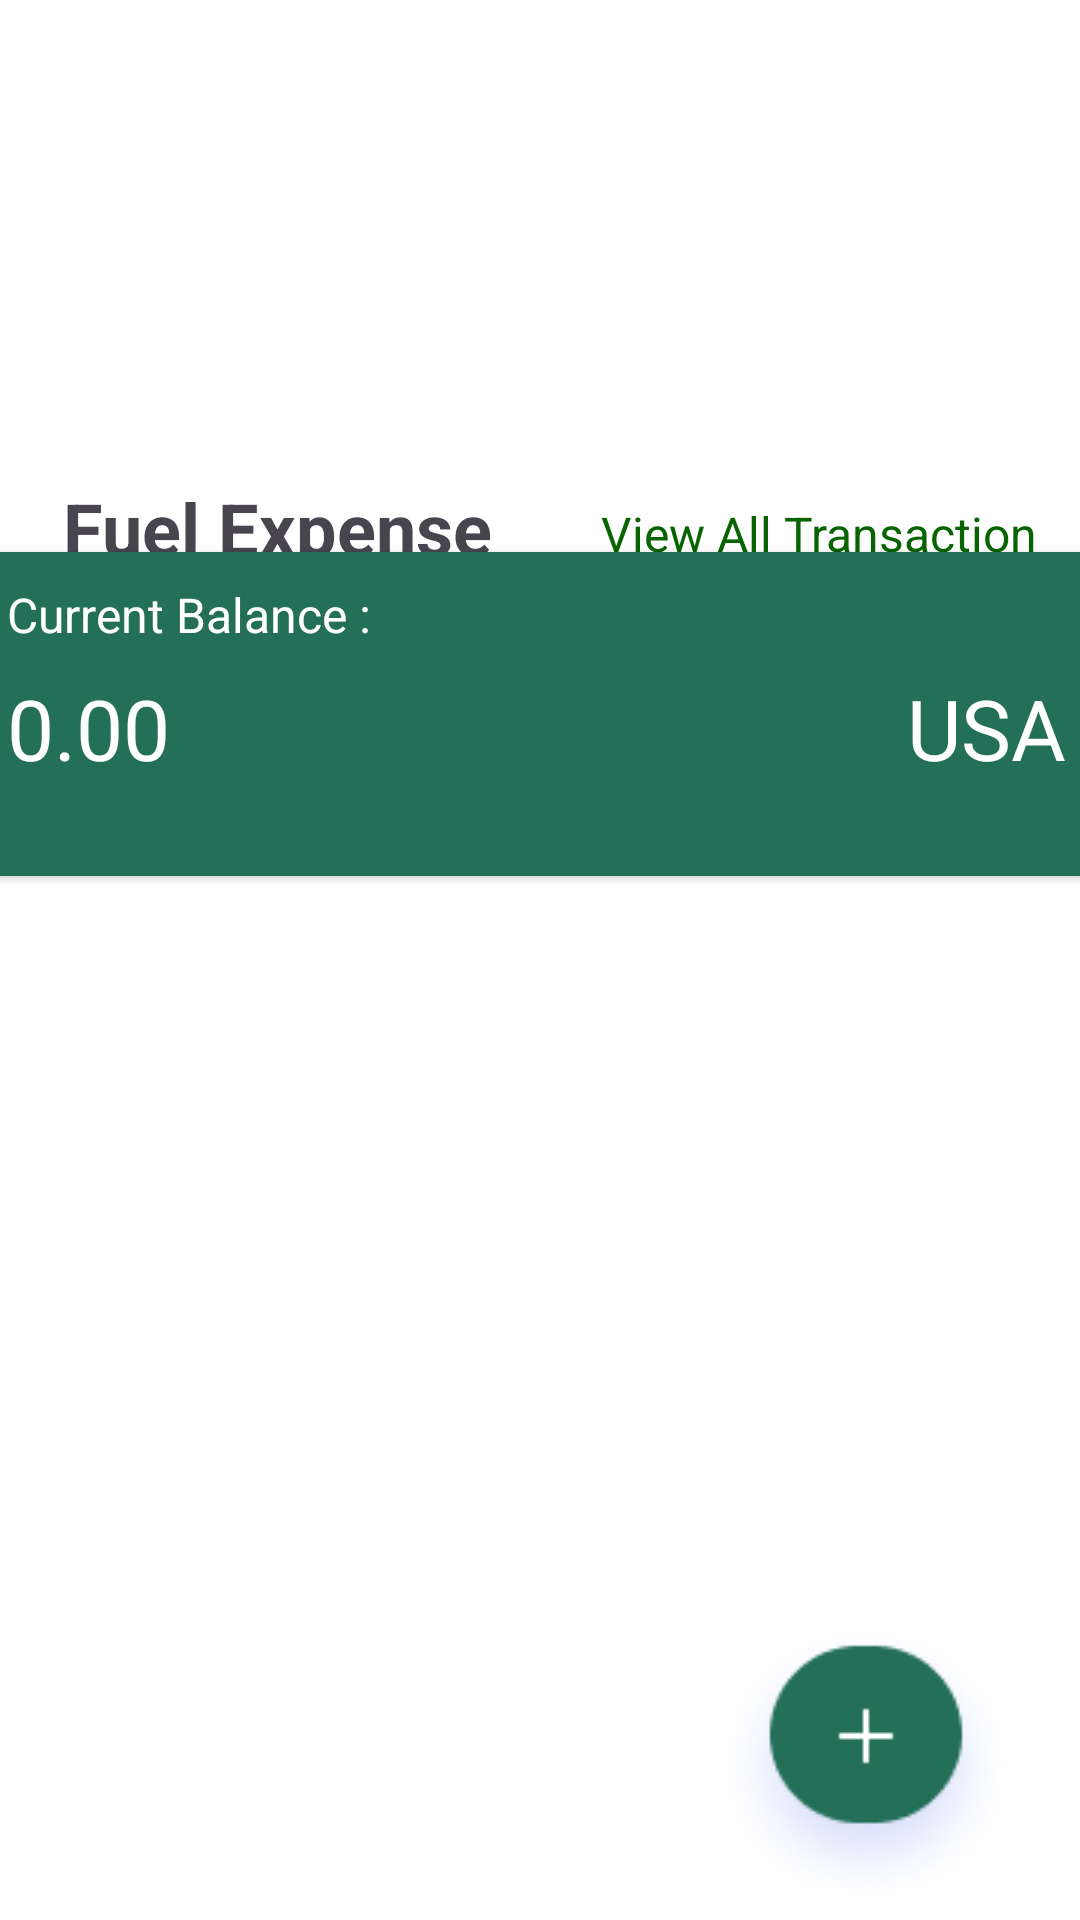

Point at icon controls on the screen. Image size 1080*1920, points as (x,y).
im add item: (866,1746)
